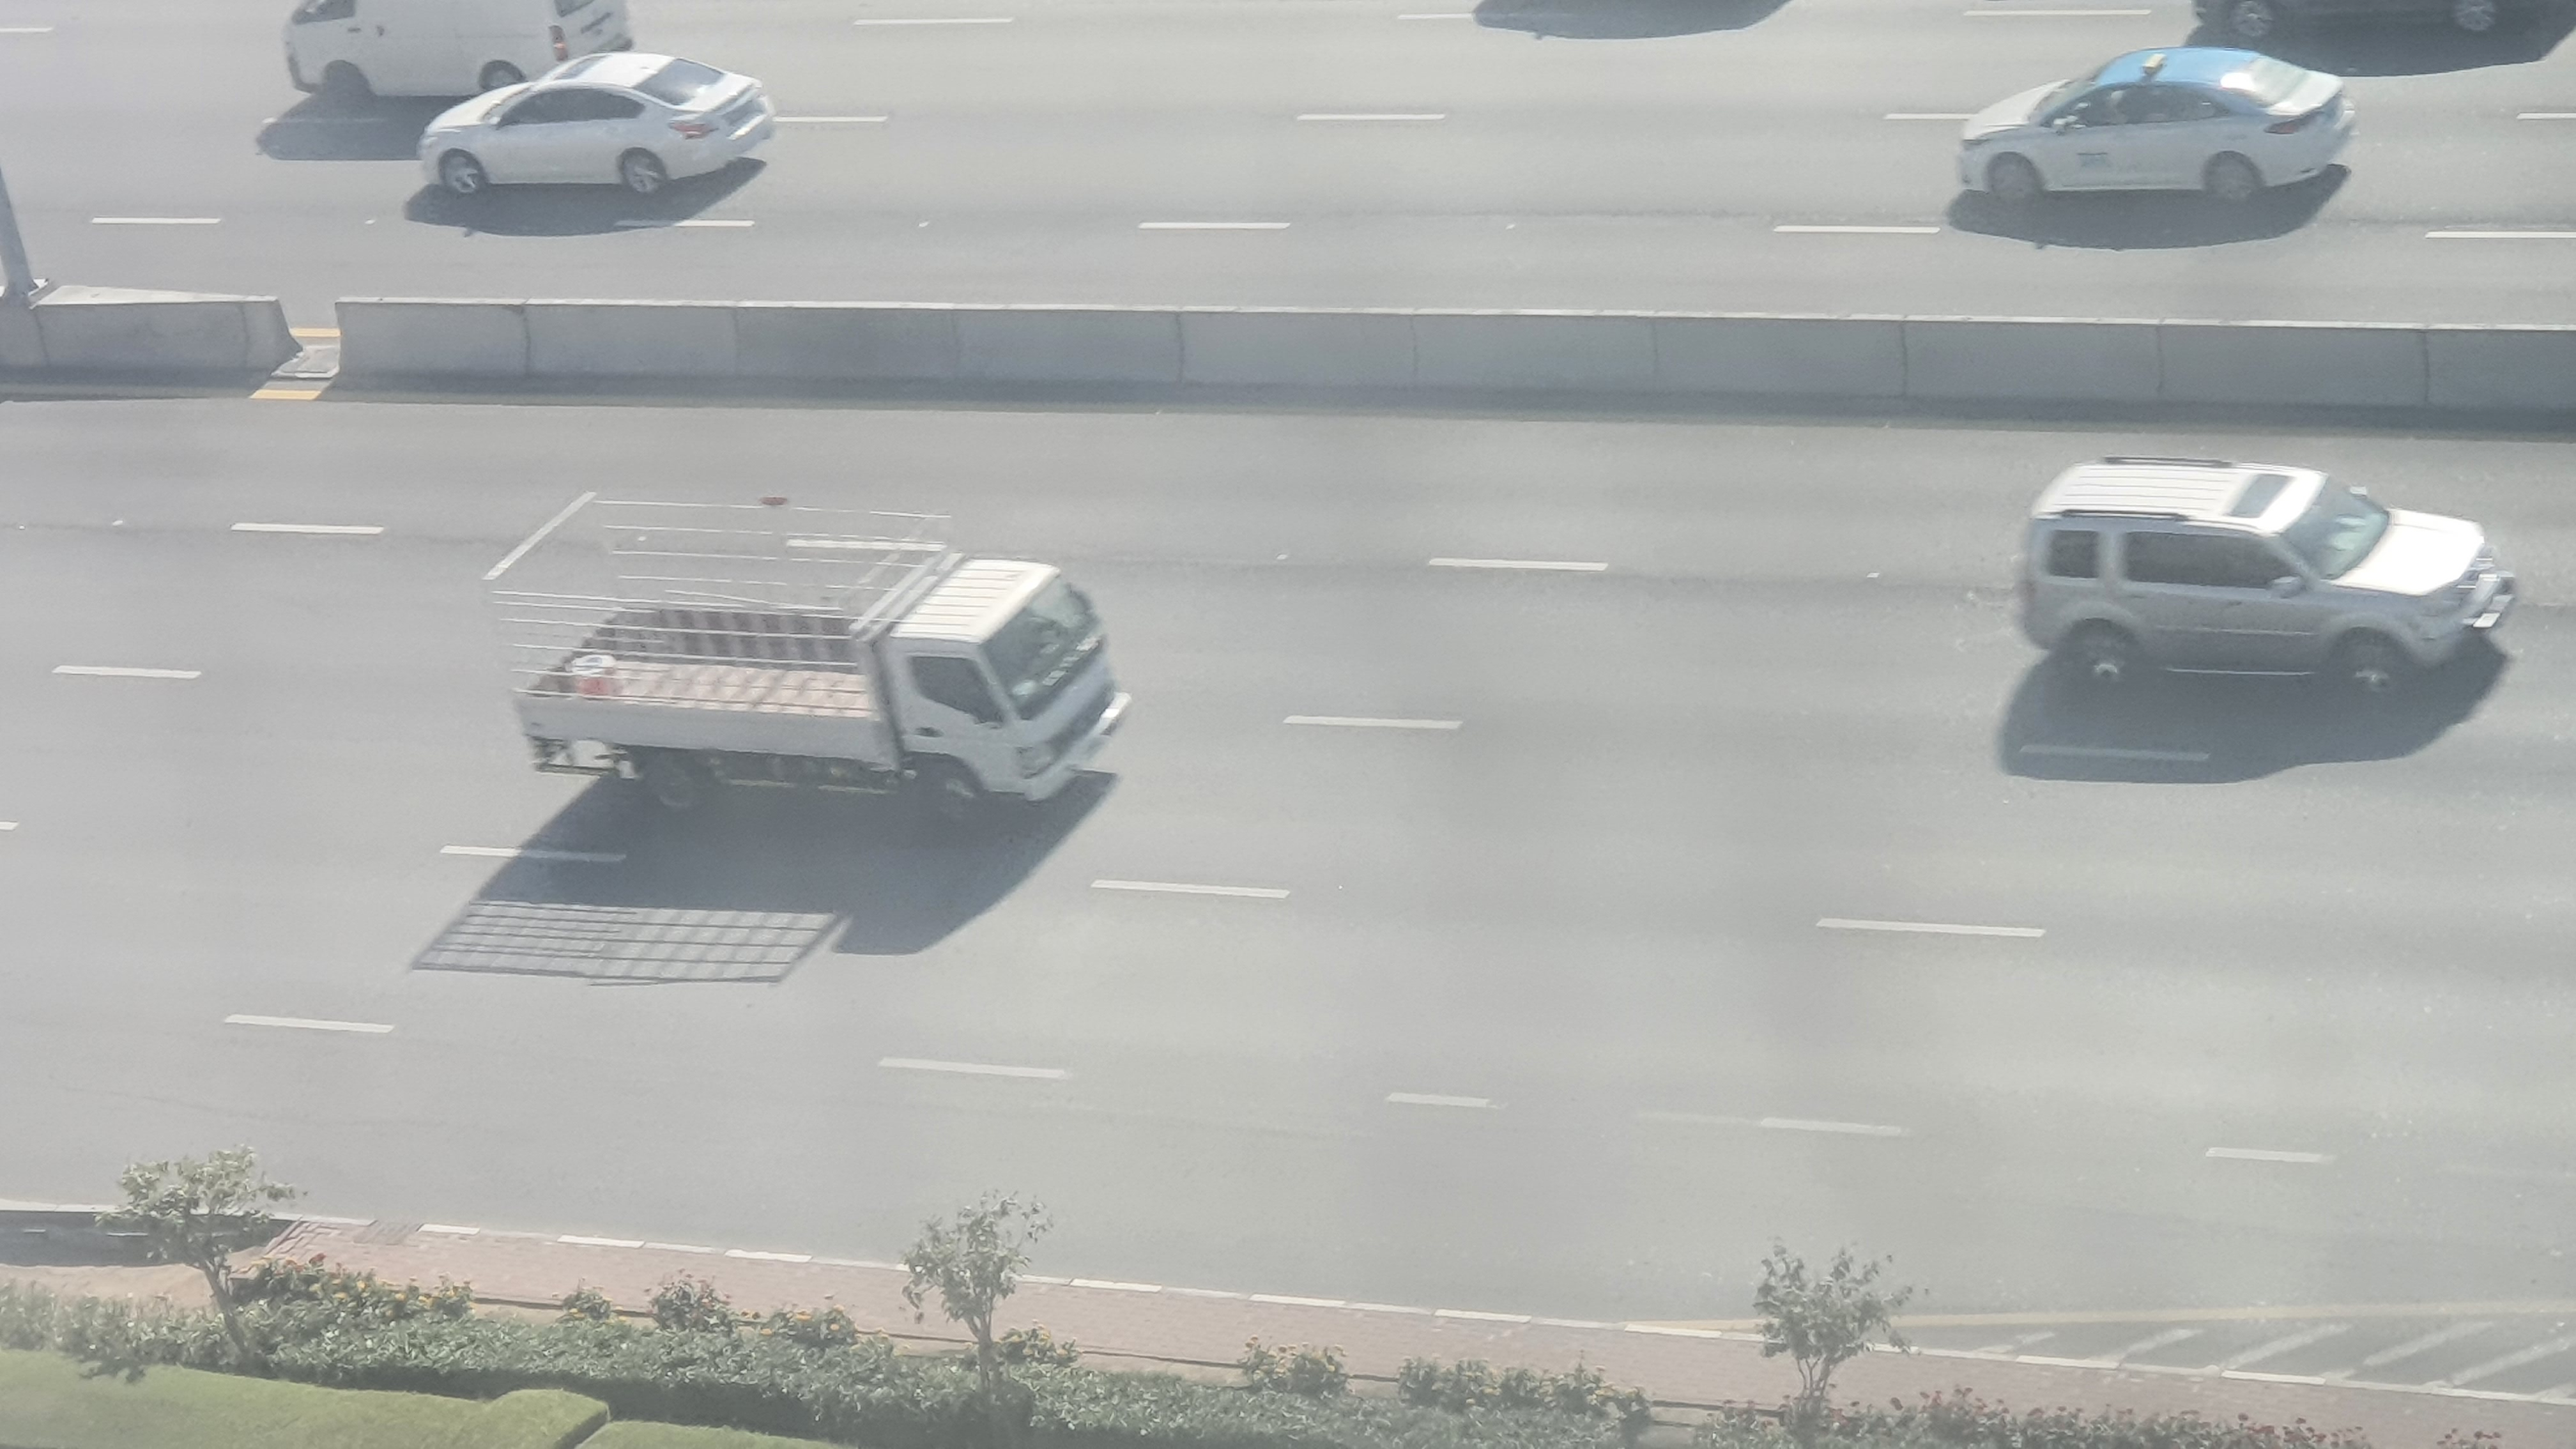Sunroof: (2019, 456, 2518, 708)
